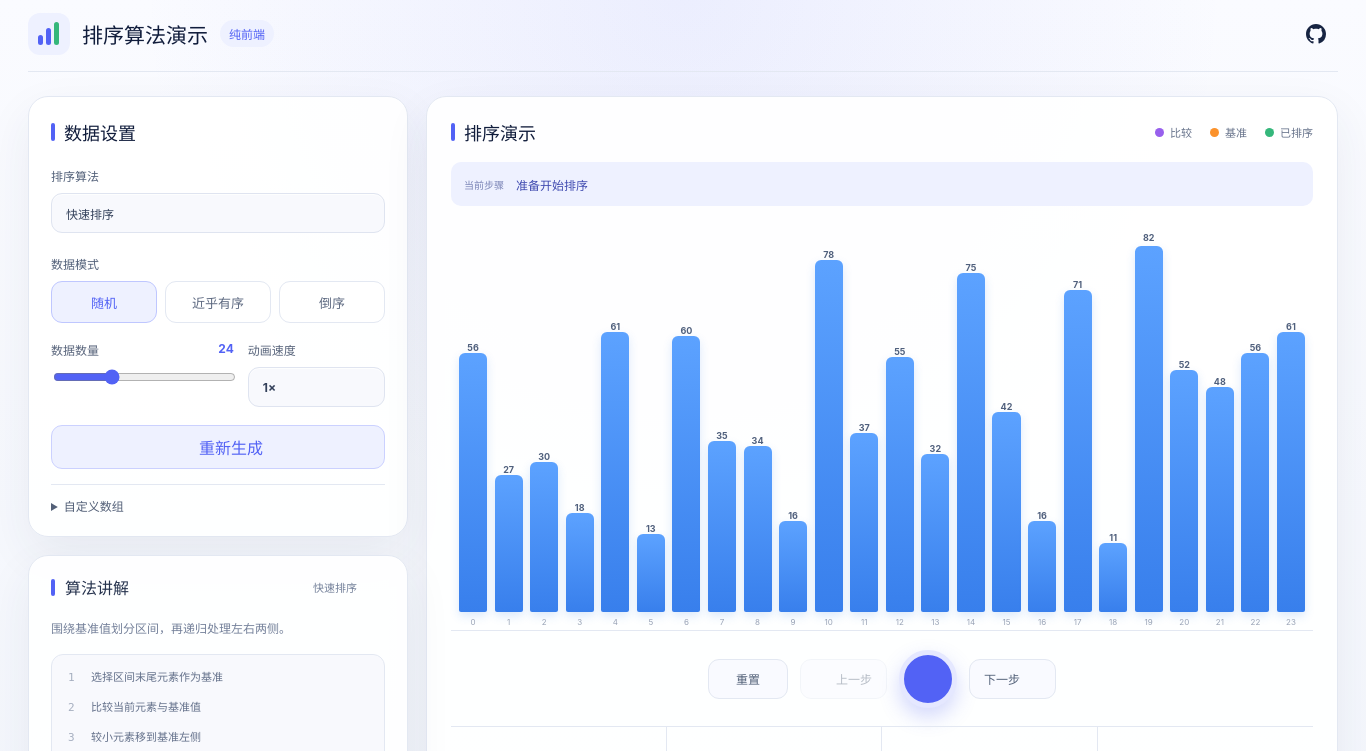
Test: App › steps forward and backward deterministically
Step 1. Click the button "下一步" → (1012, 679), box [969,659,1056,699]
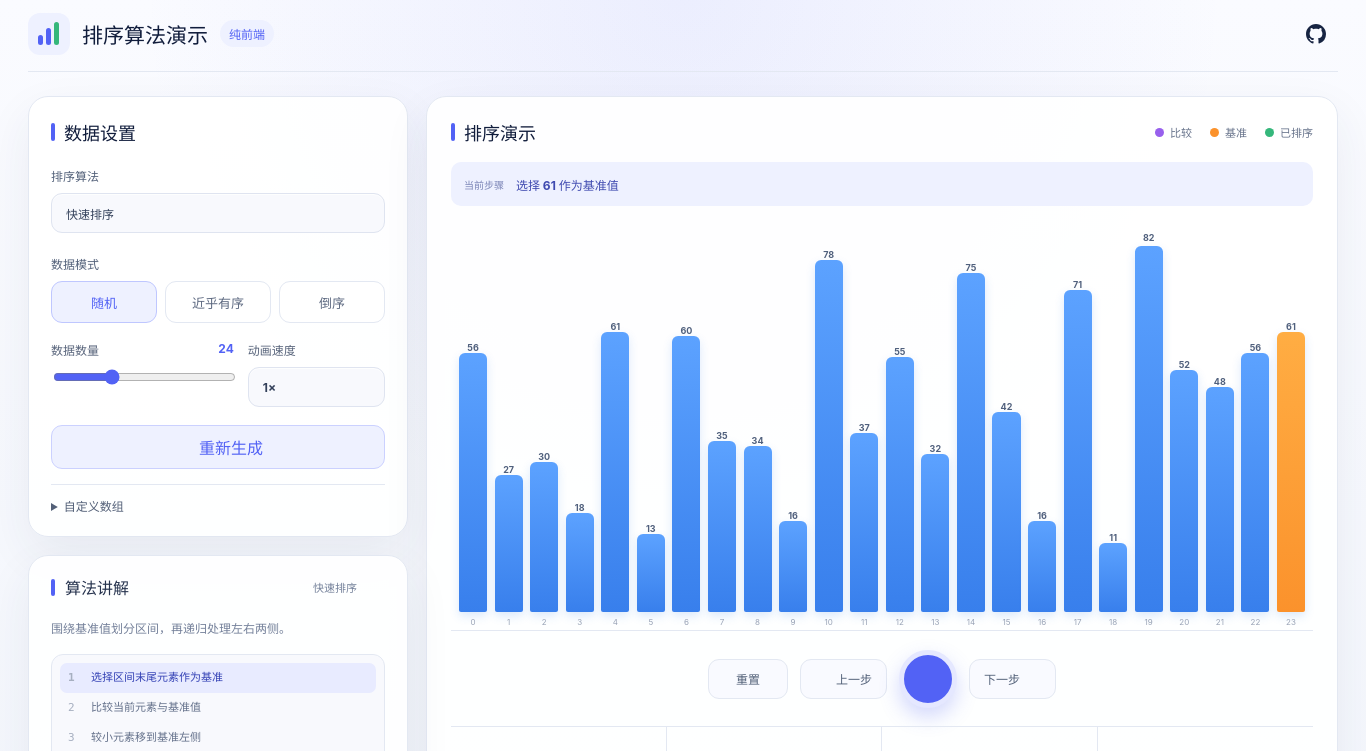
Step 2. Click the button "上一步" → (844, 679), box [800,659,887,699]
(page scrolled)
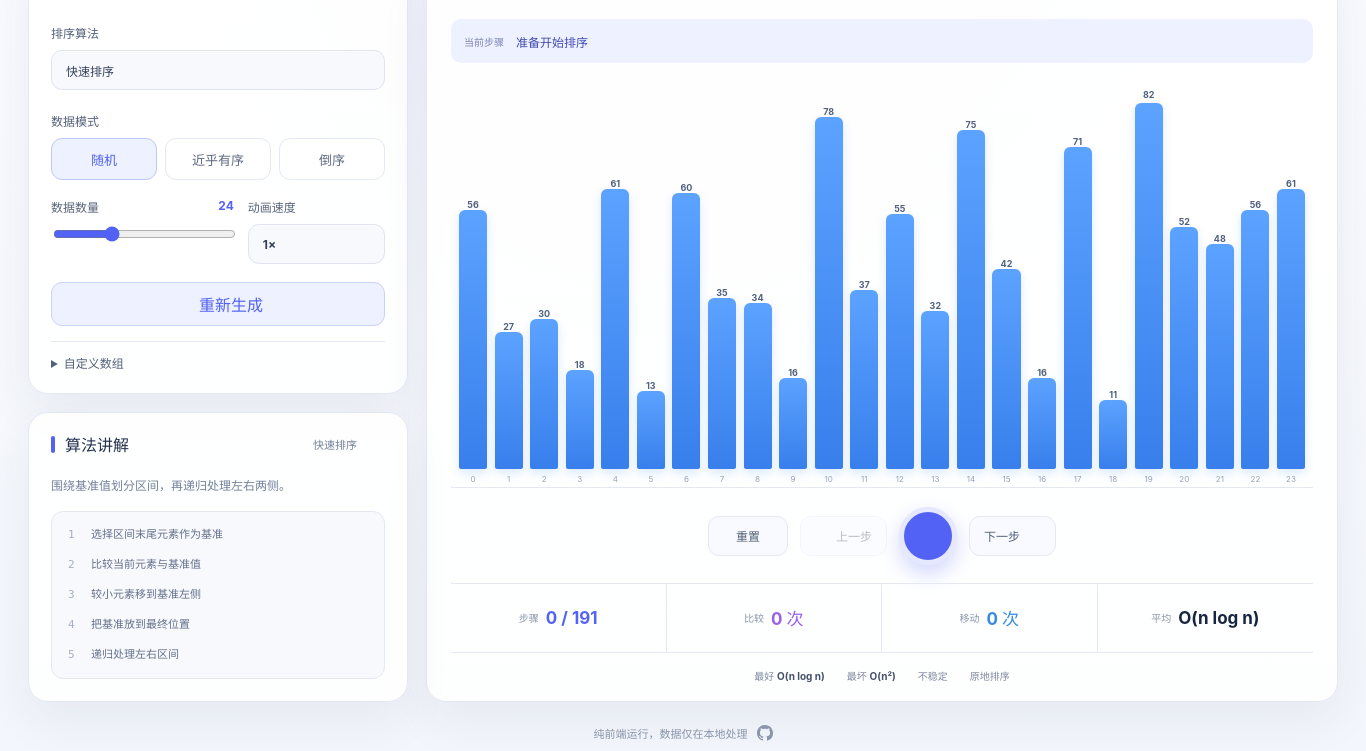
Expected: the element with class "stats" shows "0 /", [546,608,598,628]
